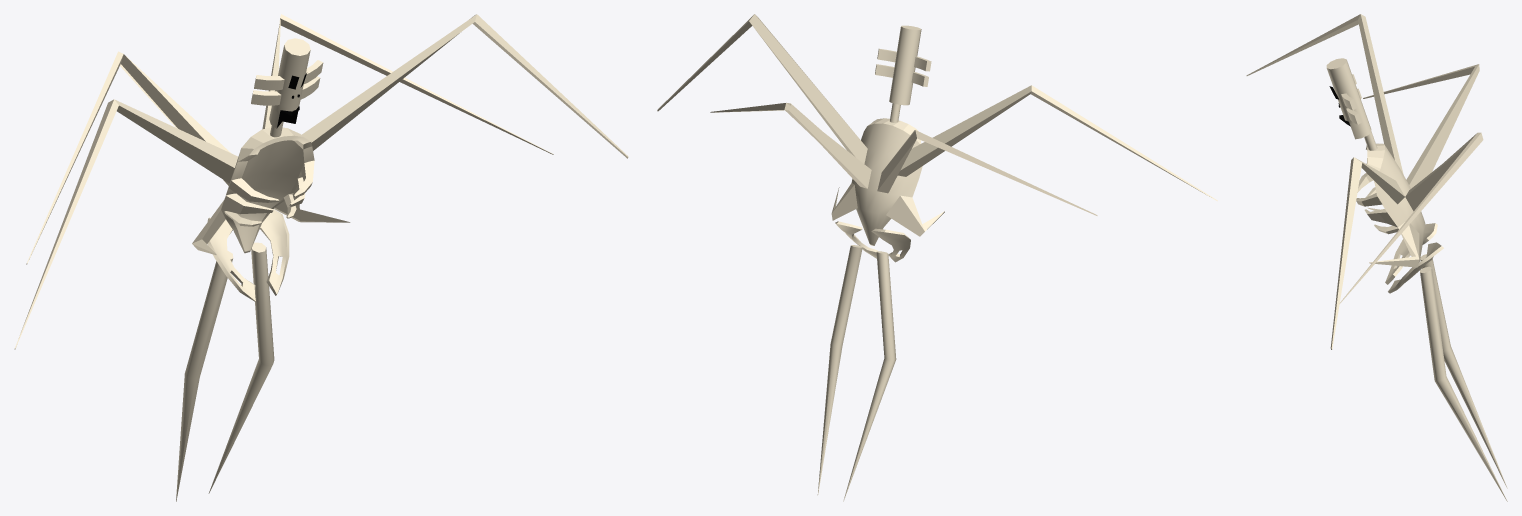
The picture shows the model from 3 angles, left to right: view 1: azimuth 30°, elevation 25°; view 2: azimuth 150°, elevation 25°; view 3: azimuth 270°, elevation 25°; orthographic projection. The views are drawn at different scales.
Parts seen in each view (by area): view 1: Object, Object002, Cylinder003, Cylinder004, Box003; view 2: Object, Object002, Cylinder003, Cylinder004, Box003; view 3: Object, Cylinder003, Object002, Cylinder004, Box003.
Boxes of the visible parts, left/top/right/bottom form: Object: left=14, top=14, right=628, bottom=349; Object002: left=251, top=38, right=323, bottom=137; Cylinder003: left=208, top=242, right=274, bottom=493; Cylinder004: left=176, top=250, right=233, bottom=501; Box003: left=207, top=209, right=289, bottom=301; Object: left=657, top=14, right=1217, bottom=245; Object002: left=875, top=25, right=931, bottom=122; Cylinder003: left=817, top=245, right=862, bottom=495; Cylinder004: left=843, top=251, right=896, bottom=501; Box003: left=835, top=221, right=910, bottom=262; Object: left=1246, top=14, right=1483, bottom=349; Cylinder003: left=1420, top=266, right=1507, bottom=501; Object002: left=1326, top=58, right=1377, bottom=150; Cylinder004: left=1420, top=254, right=1507, bottom=488; Box003: left=1385, top=223, right=1443, bottom=293.
Size of the model in its own units: 118 by 89.71 by 48.86.
